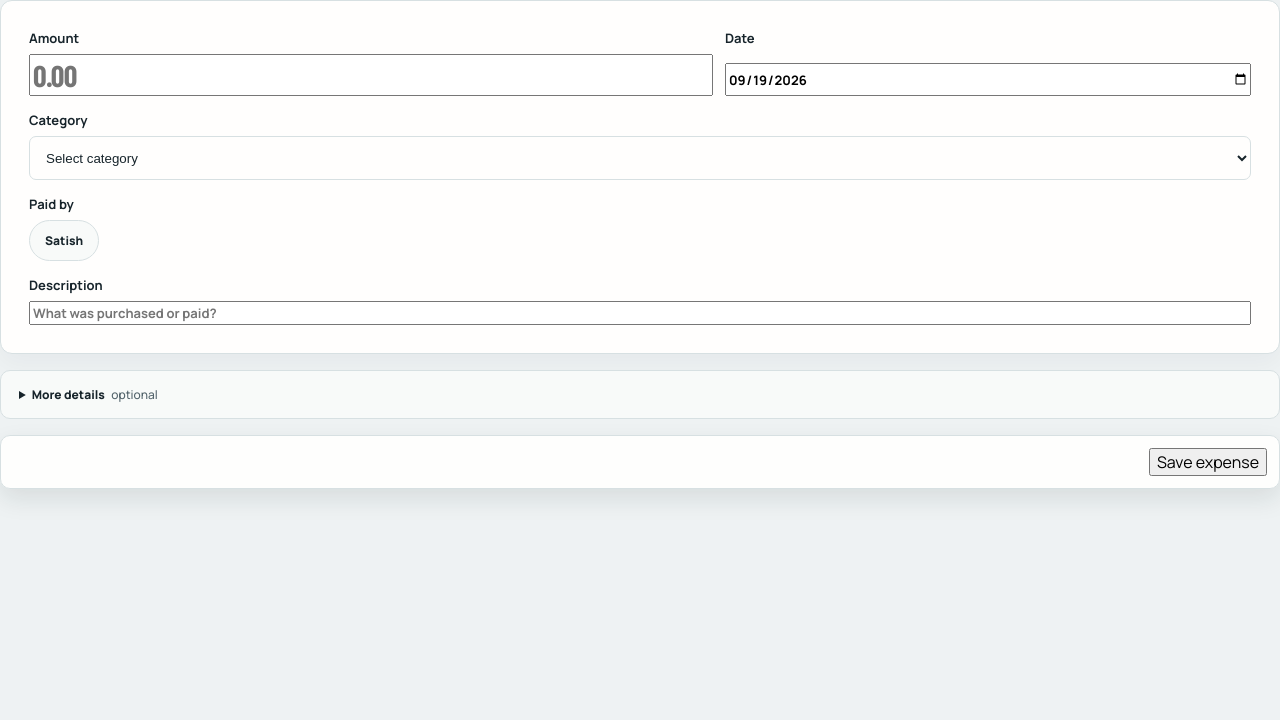
Scenario: ExpenseForm › shows server field errors without discarding the entry
Type "50" into the field labelled "Amount" at coordinates (371, 75), box 29,54 -> 713,96
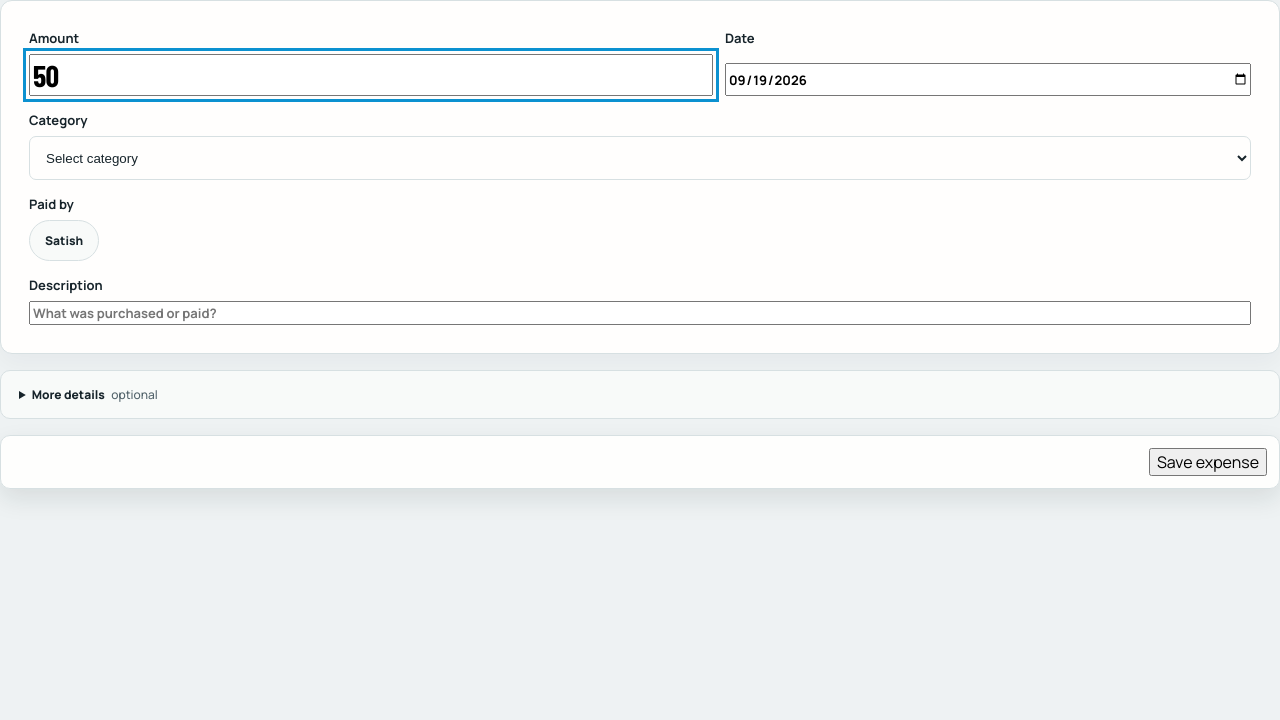
Select "Seeds" in the dropdown labelled "Category" at coordinates (640, 158), box 29,136 -> 1251,180
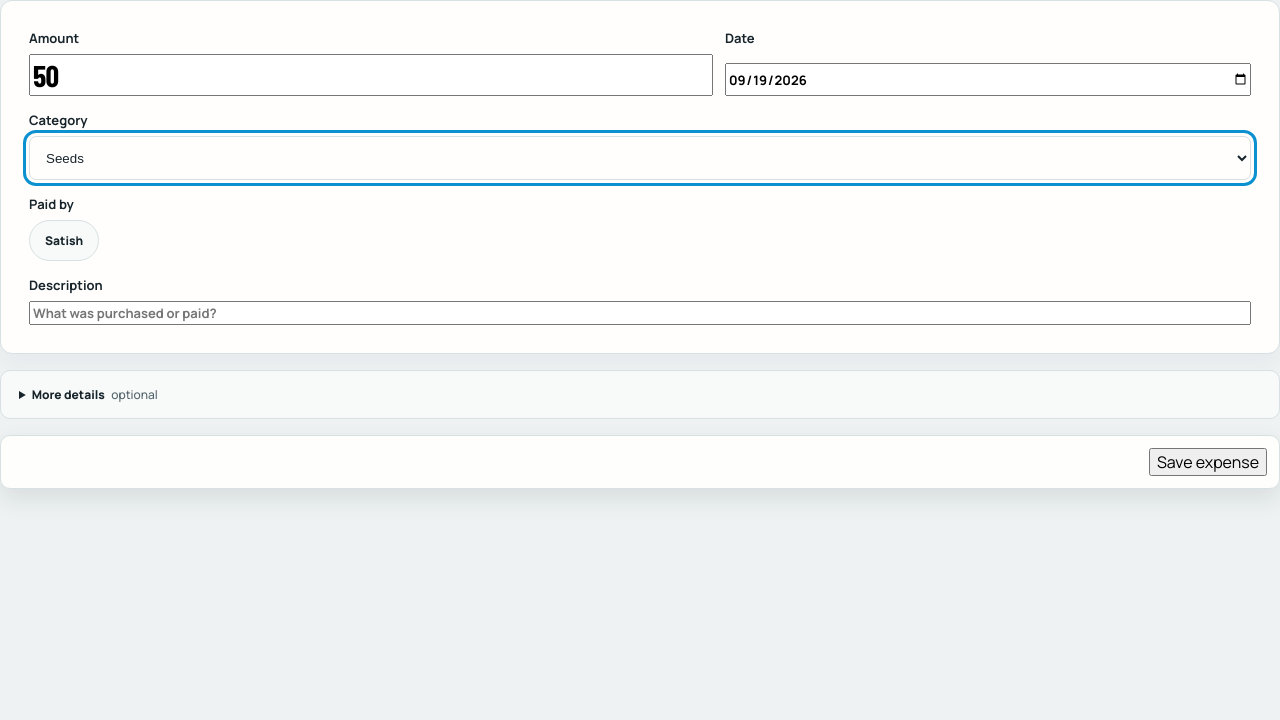
Click the button "Satish" at coordinates (64, 240), box 29,220 -> 99,261
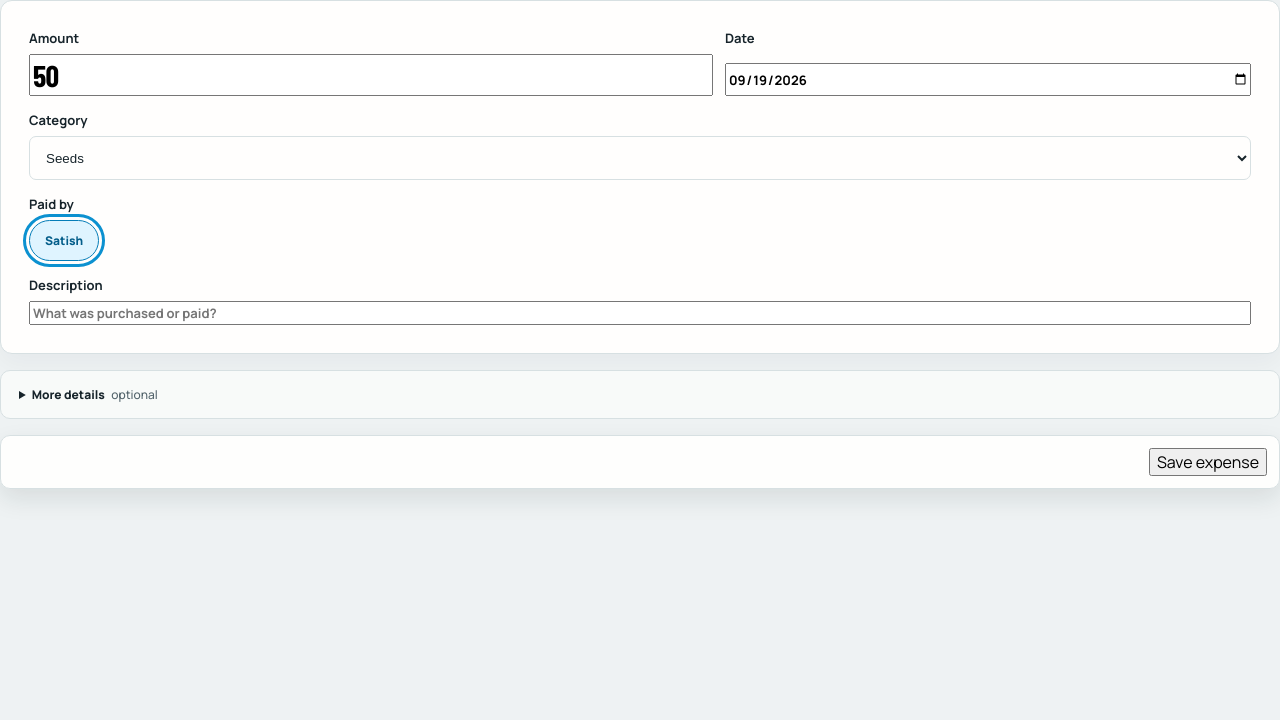
Type "Potting mix" into the field labelled "Description" at coordinates (640, 313), box 29,301 -> 1251,325
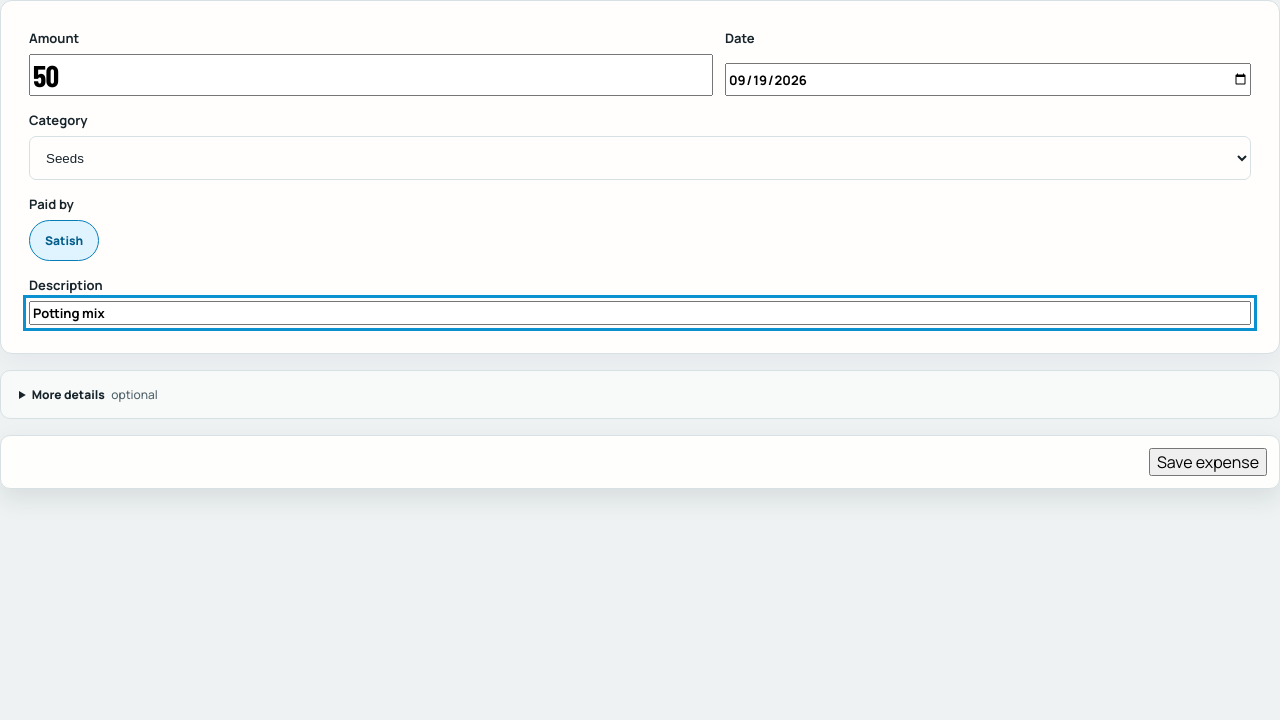
Click the button "Save expense" at coordinates (1208, 462), box 1149,448 -> 1267,476
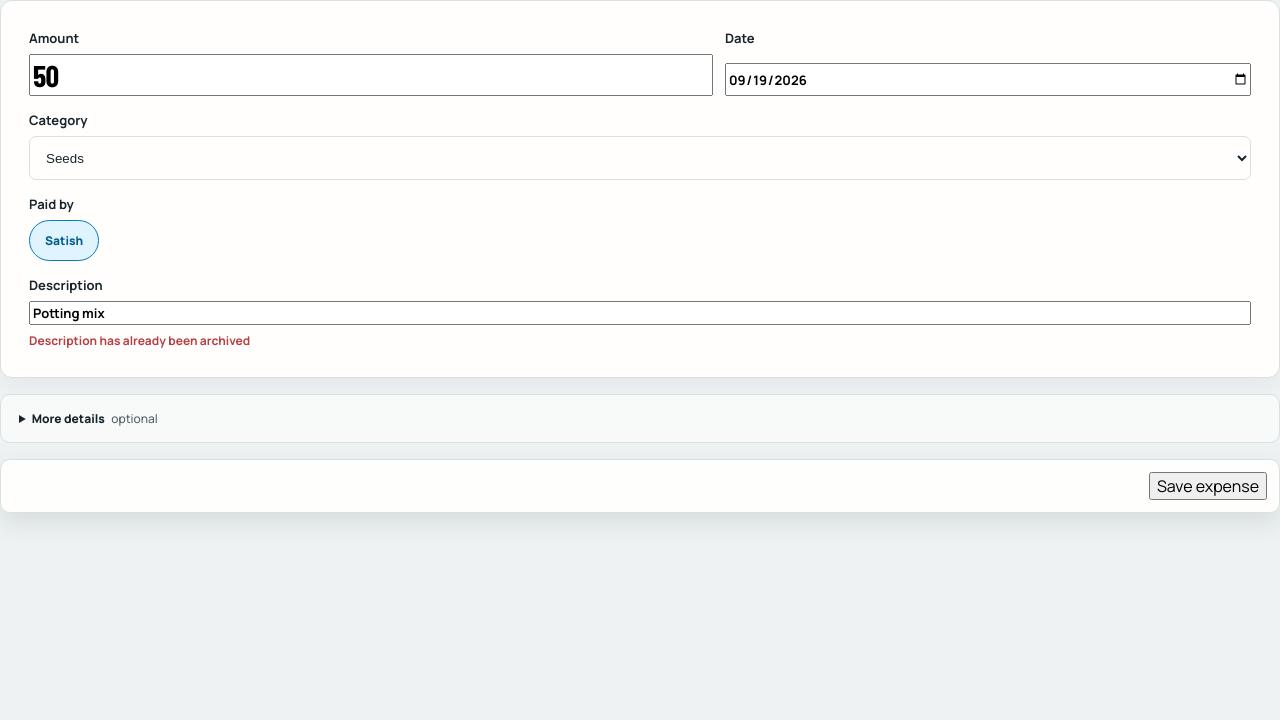
Check: the text "Description has already been archived" is shown, box 29,332 -> 250,349
